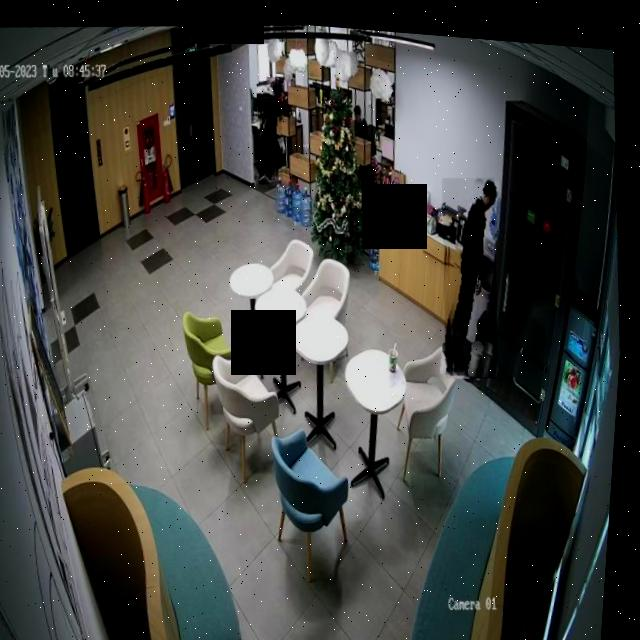person: (433, 165, 513, 374), (252, 77, 290, 181)
